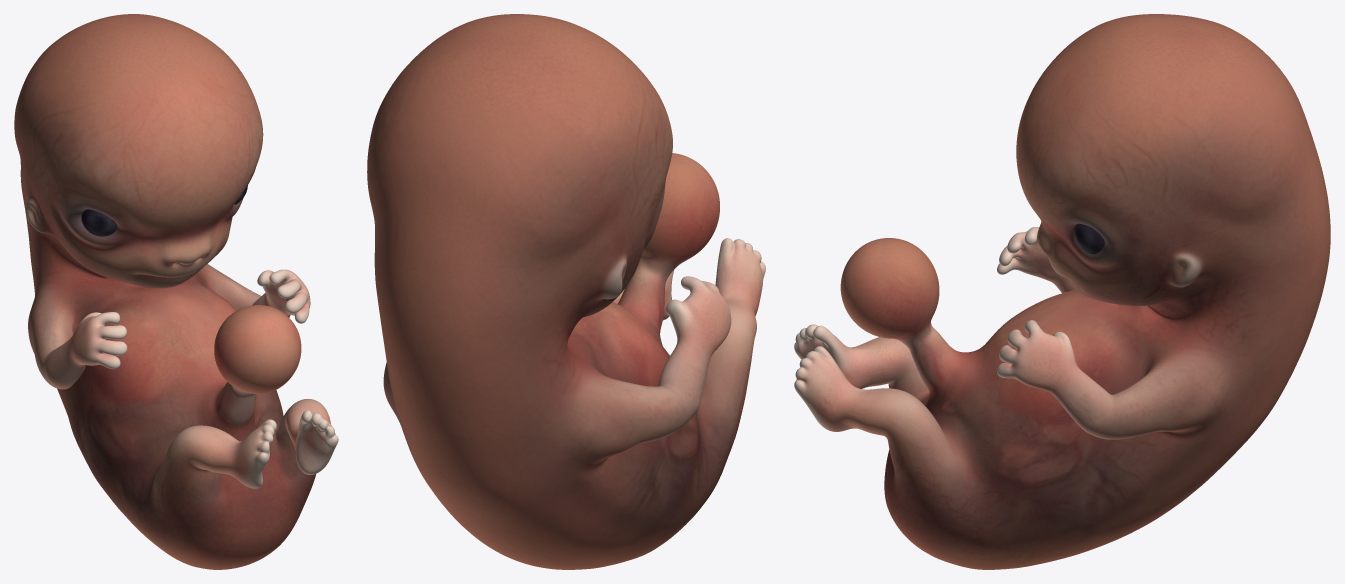
The model's file is stade-04.glb.
The picture shows the model from 3 angles, left to right: view 1: azimuth 30°, elevation 25°; view 2: azimuth 150°, elevation 25°; view 3: azimuth 270°, elevation 25°; orthographic projection. The views are drawn at different scales.
Bounding box in the file's own units: 0.9883 × 1.9 × 1.74.
1 material, 1 textured.
